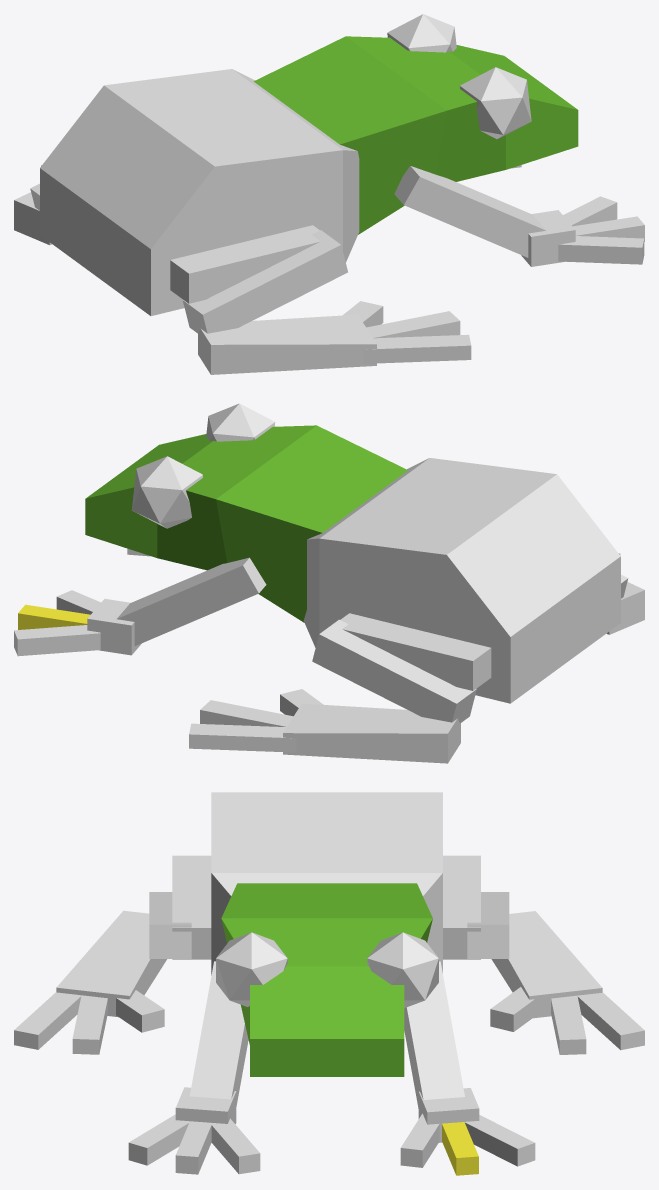
Rendered from frog.fbx.
3 views of the same model, one above another, from view 1: azimuth 30°, elevation 25°; view 2: azimuth 150°, elevation 25°; view 3: azimuth 270°, elevation 25° (orthographic). The views are drawn at different scales.
Visible parts, largest first — view 1: Body, Body_Front, Leg2c, Leg2b, Leg2b.001, Leg2a, EyeR, Leg2c.002, Leg2c.007, EyeL, Leg2c.001, Leg2c.003 (+4 smaller); view 2: Body, Body_Front, Leg1c, Leg1b, Leg1b.001, Leg1a, EyeL, Leg1c.002, Leg1c.006, Leg1c.001, EyeR, Leg1c.003 (+4 smaller); view 3: Body_Front, Body, Leg1c, Leg2c, Leg1b.001, Leg2b.001, Leg2a, Leg1a, EyeL, EyeR, Leg1b, Leg2b (+14 smaller).
Part boxes in pixels (x1,y1,x2,y2): Body: (40, 69, 359, 315); Body_Front: (254, 36, 578, 234); Leg2c: (198, 314, 376, 374); Leg2b: (182, 230, 347, 333); Leg2b.001: (394, 166, 545, 257); Leg2a: (170, 225, 320, 303); EyeR: (460, 67, 531, 139); Leg2c.002: (363, 334, 471, 363); Leg2c.007: (558, 236, 644, 264); EyeL: (387, 14, 456, 52); Leg2c.001: (521, 210, 575, 266); Leg2c.003: (366, 311, 460, 338); Body: (303, 458, 620, 703); Body_Front: (85, 425, 408, 622); Leg1c: (283, 703, 460, 763); Leg1b: (312, 619, 476, 723); Leg1b.001: (117, 557, 266, 645); Leg1a: (340, 613, 491, 690); EyeL: (131, 456, 202, 528); Leg1c.002: (189, 723, 296, 752); Leg1c.006: (14, 625, 100, 656); Leg1c.001: (87, 598, 141, 655); EyeR: (206, 403, 275, 441); Leg1c.003: (200, 700, 293, 726); Body_Front: (221, 883, 432, 1076); Body: (211, 792, 442, 975); Leg1c: (491, 911, 602, 1018); Leg2c: (56, 910, 166, 1017); Leg1b.001: (404, 961, 464, 1108); Leg2b.001: (189, 961, 248, 1106); Leg2a: (172, 855, 211, 959); Leg1a: (443, 855, 480, 959); EyeL: (367, 932, 438, 1007); EyeR: (216, 932, 287, 1006); Leg1b: (467, 892, 509, 958); Leg2b: (149, 892, 191, 958).
Bounding box in the file's own units: 752 × 266 × 818.
